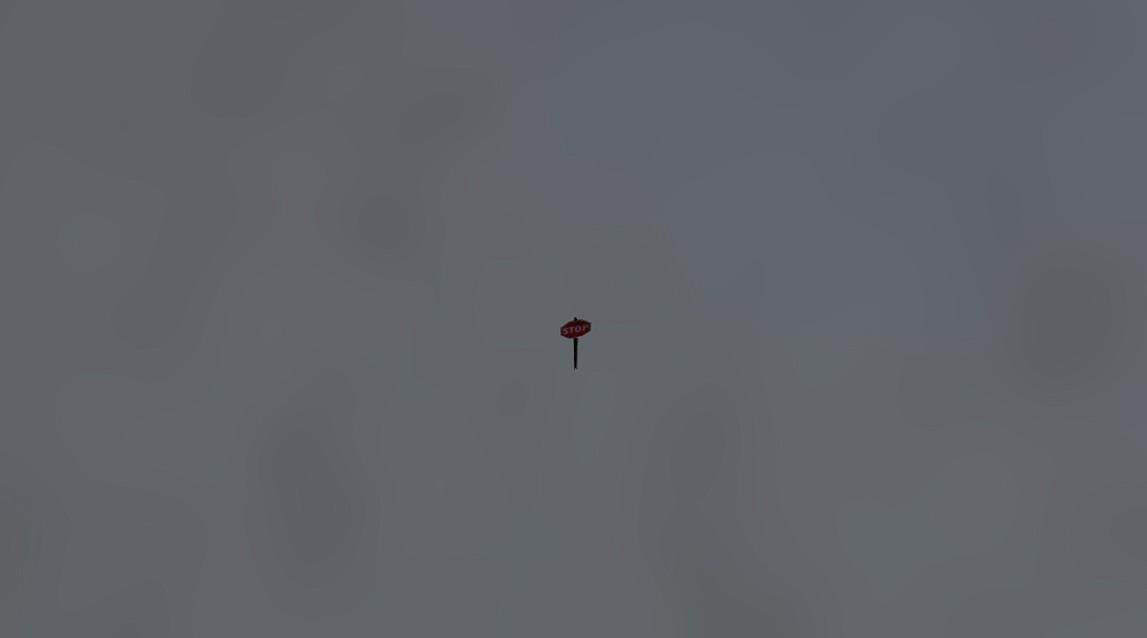Stop-Sign: (558, 314, 591, 369)
